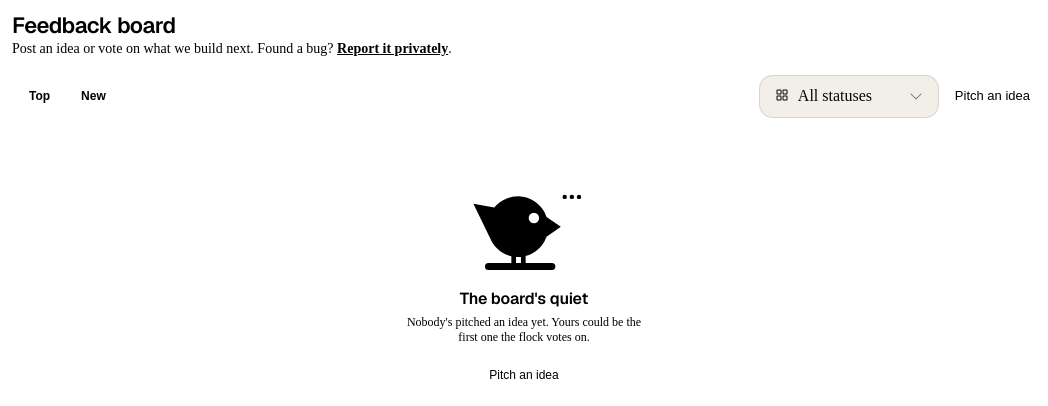
filters by status from the dropdown, with an empty state for that status
This screenshot has width=1048, height=406.
Click the dropdown labelled "status": point(849, 96) top-left (759, 75), bottom-right (939, 118)
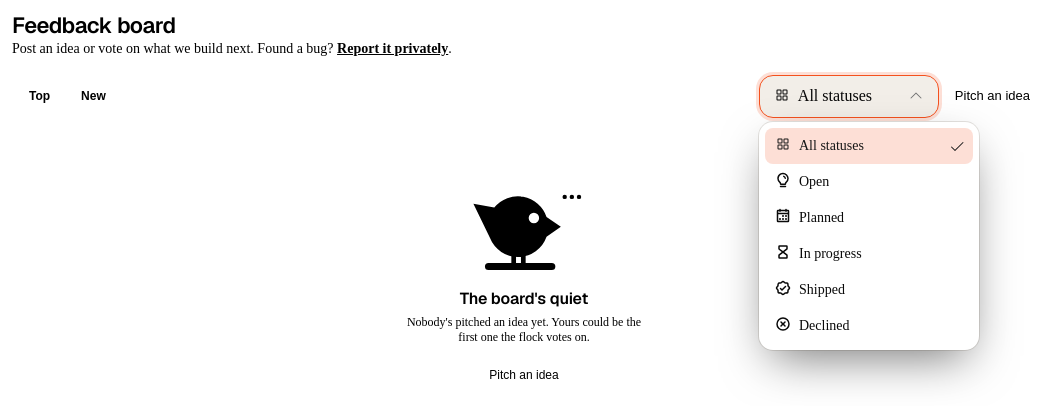
Click the option "Shipped": point(810, 288) top-left (775, 280), bottom-right (845, 297)
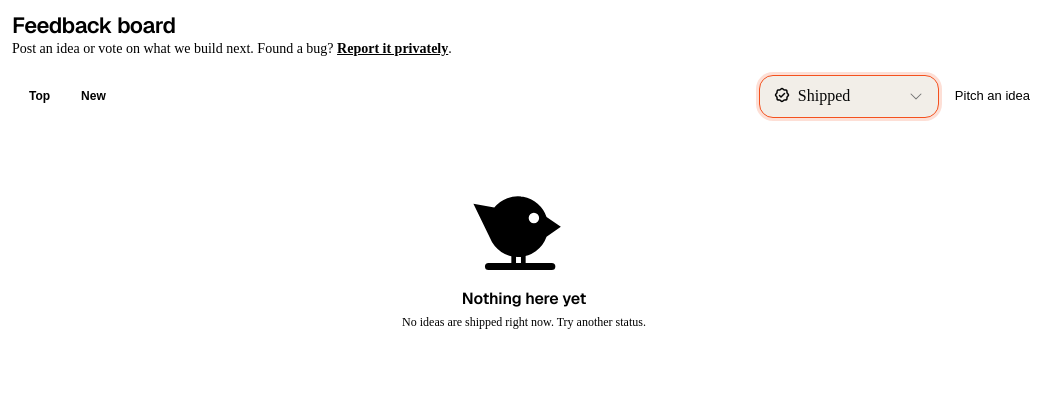
Expected: the text "No ideas are shipped right now. Try another status." is shown, top-left (402, 315), bottom-right (646, 330)
